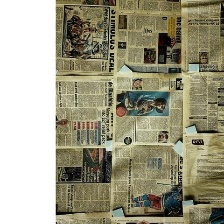news_paper: (40, 3, 115, 76), (111, 144, 183, 217), (112, 72, 183, 146), (46, 76, 113, 148), (116, 0, 181, 73), (54, 145, 113, 214), (180, 0, 224, 74), (182, 133, 224, 203), (181, 70, 223, 134), (183, 203, 224, 223), (51, 214, 111, 224), (110, 216, 183, 223), (53, 0, 115, 7)
